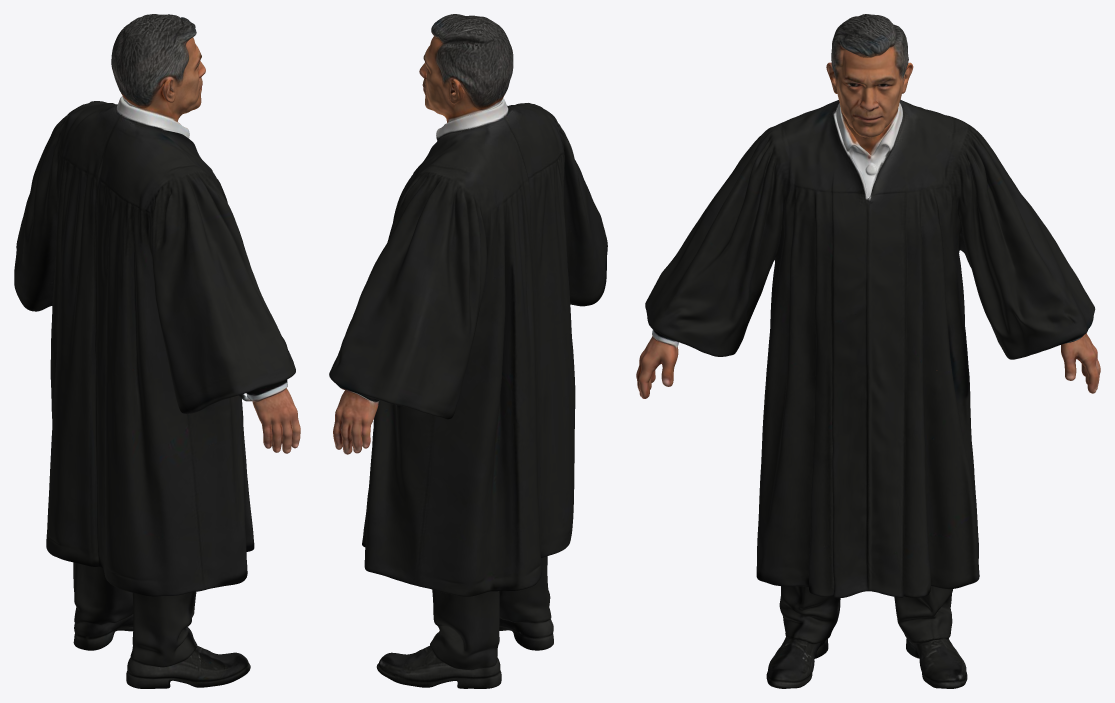
Rendered from juez1.glb.
The picture shows the model from 3 angles, left to right: view 1: azimuth 30°, elevation 25°; view 2: azimuth 150°, elevation 25°; view 3: azimuth 270°, elevation 25°; orthographic projection. The views are drawn at different scales.
Parts seen in each view (by area): view 1: tripo_node_1db2116c-f230-455a-8775-3b9138c87456; view 2: tripo_node_1db2116c-f230-455a-8775-3b9138c87456; view 3: tripo_node_1db2116c-f230-455a-8775-3b9138c87456.
Part boxes in pixels (x1=…): tripo_node_1db2116c-f230-455a-8775-3b9138c87456: x1=14, y1=14, x2=300, y2=688; tripo_node_1db2116c-f230-455a-8775-3b9138c87456: x1=329, y1=14, x2=607, y2=688; tripo_node_1db2116c-f230-455a-8775-3b9138c87456: x1=636, y1=14, x2=1100, y2=688.
Size of the model in its own units: 0.2793 by 1 by 0.6465.
1 material, 1 textured.
